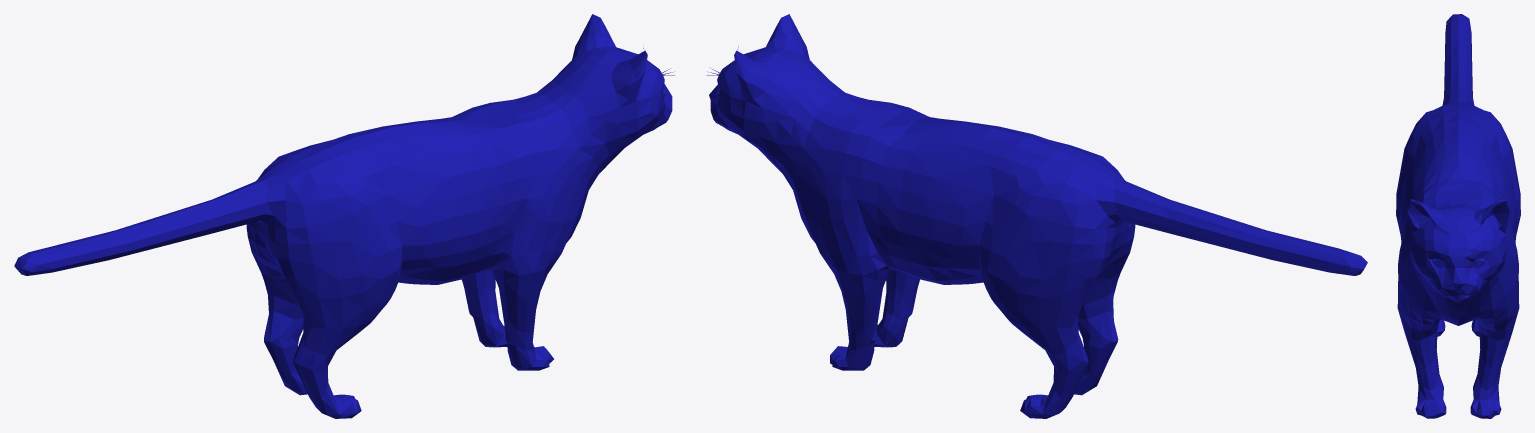
Rendered from cat.obj.
3 views of the same model, side by side, from view 1: azimuth 30°, elevation 25°; view 2: azimuth 150°, elevation 25°; view 3: azimuth 270°, elevation 25° (orthographic). The views are drawn at different scales.
Parts seen in each view (by area): view 1: cat; view 2: cat; view 3: cat.
Boxes of the visible parts, x1,y1,x2,y2 form: cat: (14,14,674,418); cat: (706,14,1367,418); cat: (1396,14,1520,418).
Bounding box in the file's own units: 762 × 331 × 144.
